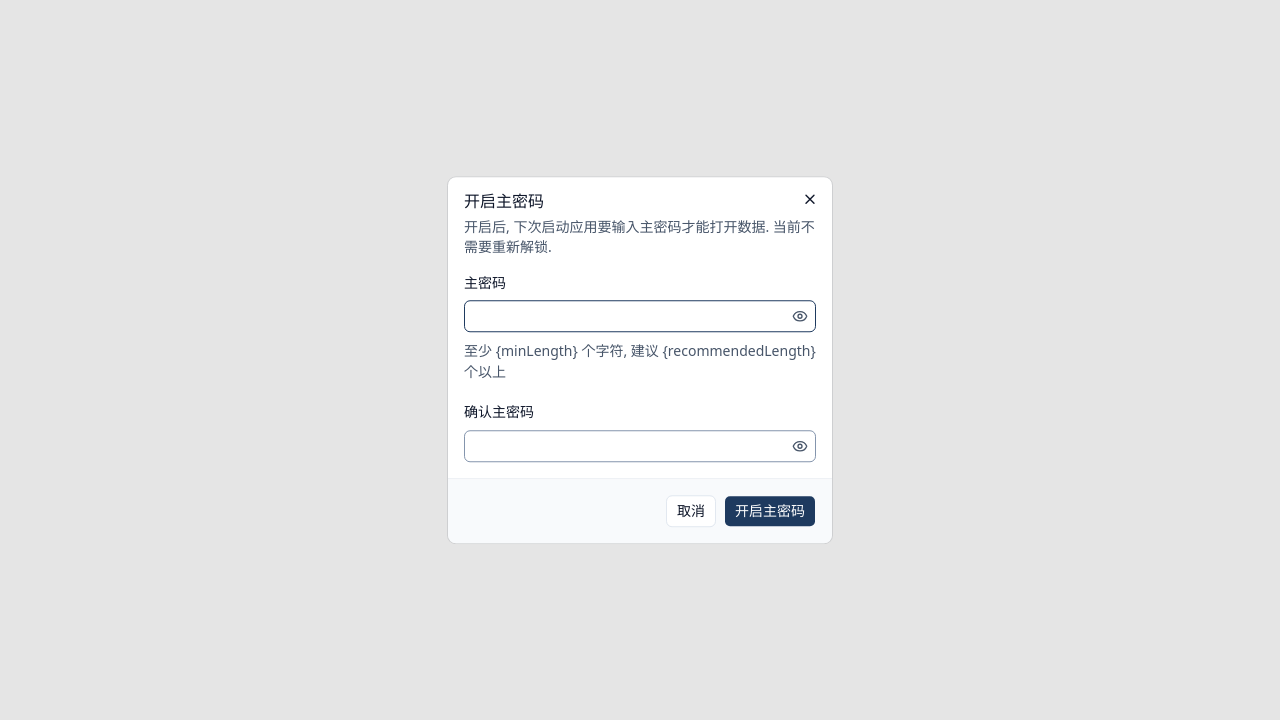
Test: 开启主密码对话框: 提交 › 状态不符时提示先确认开关状态
Type "a long enough password" into the password field labelled "主密码" at (626, 316), box [465,300,788,332]
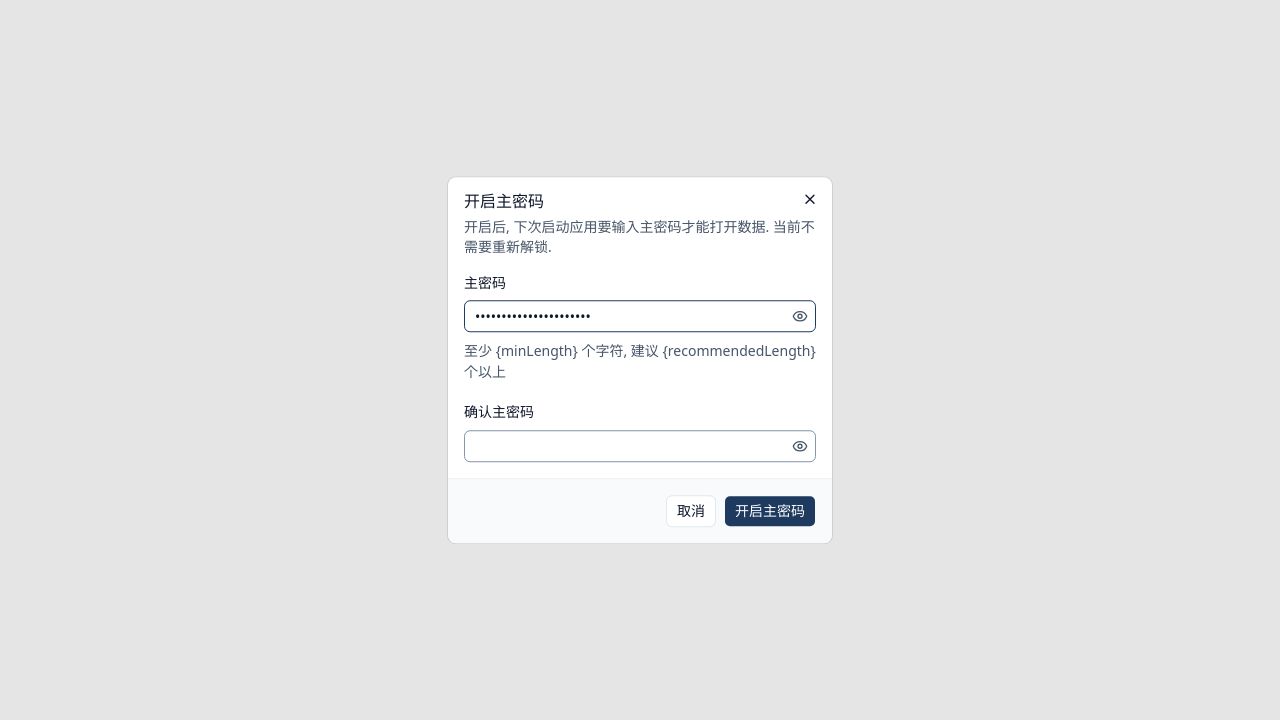
Type "a long enough password" into the password field labelled "确认主密码" at (626, 446), box [465,430,788,462]
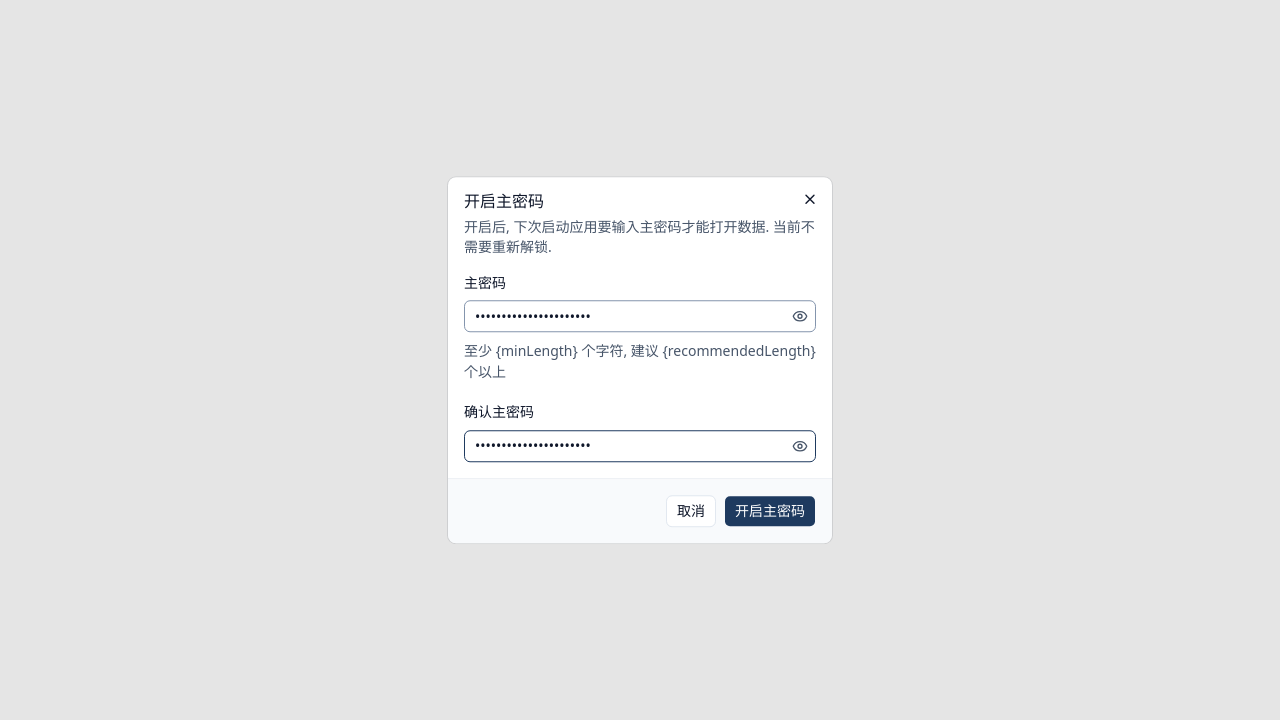
Click the button "开启主密码" at (770, 511), box [724,495,816,527]
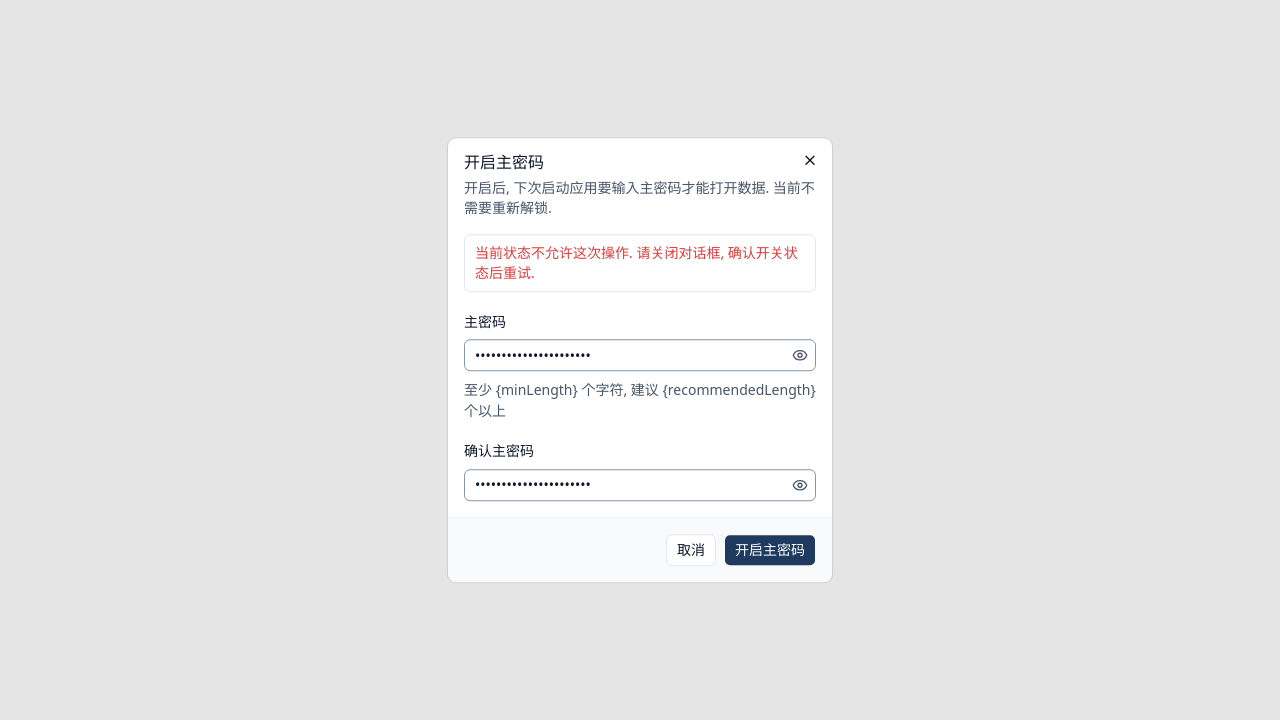
expect the message reads "当前状态不允许这次操作. 请关闭对话框, 确认开关状态后重试.": met, box [475,243,798,282]
